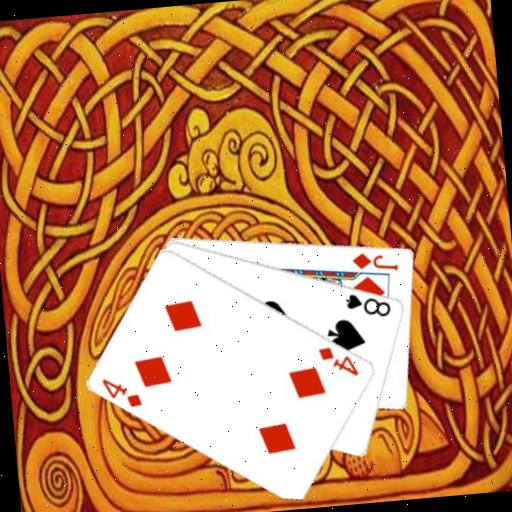4D: (315, 341, 361, 381), (99, 372, 145, 411)
8S: (342, 287, 393, 322)
JD: (349, 247, 401, 276)
